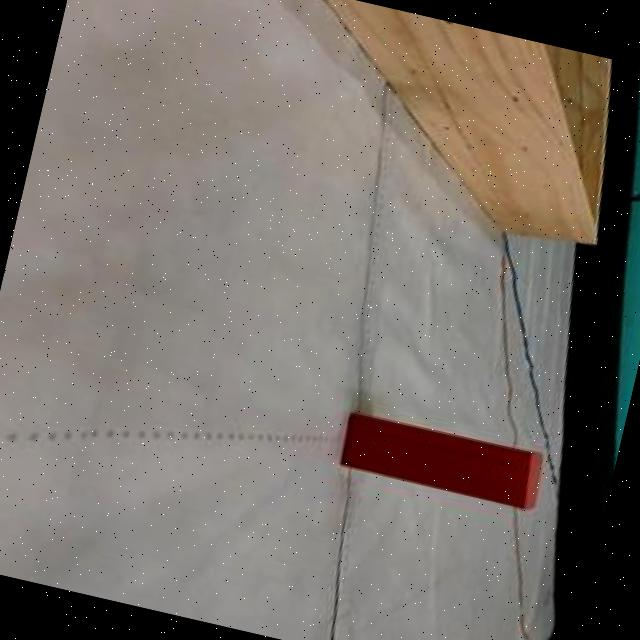redbox: (338, 409, 547, 514)
